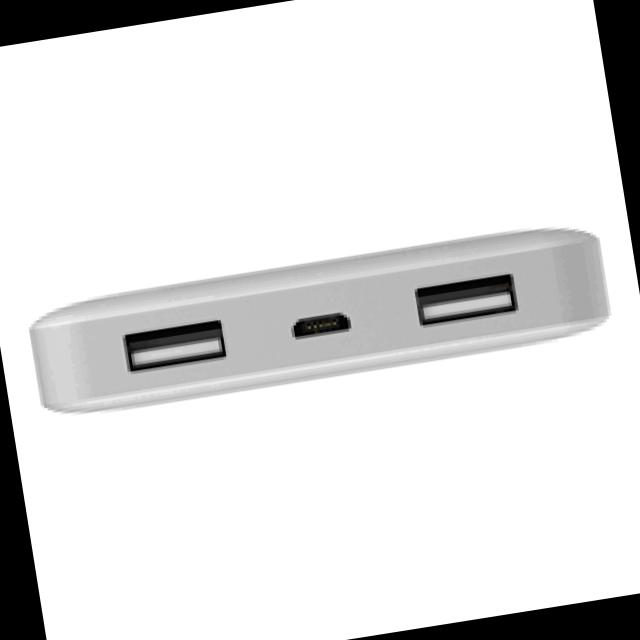portable-charger: (20, 200, 622, 430)
